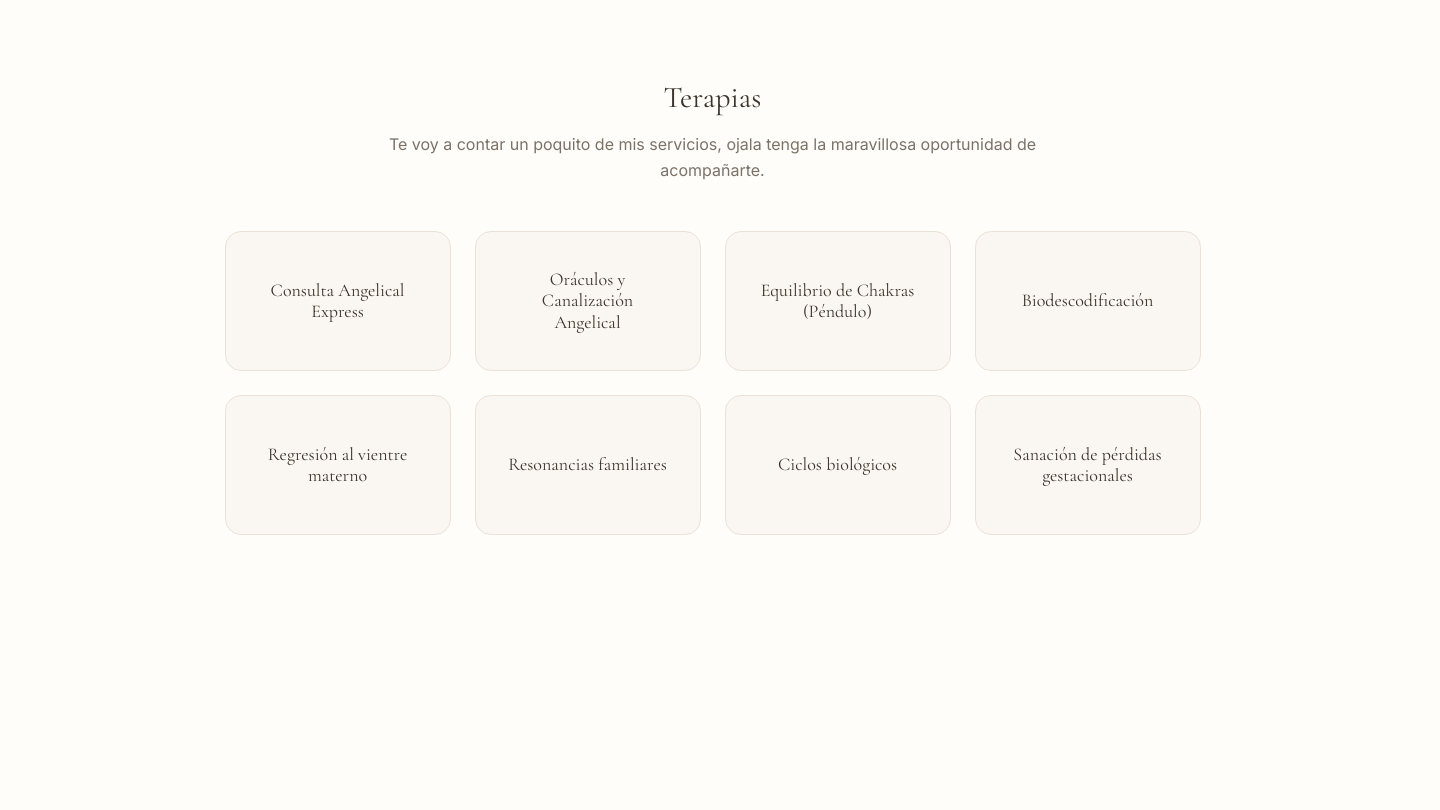
Services › closing the modal › closes when the close button (✕) is clicked
The image size is (1440, 810).
What coordinates should you click on to do the following:
click the button "Consulta Angelical Express"
I would click on:
 (338, 301)
Its box is [224, 231, 450, 371].
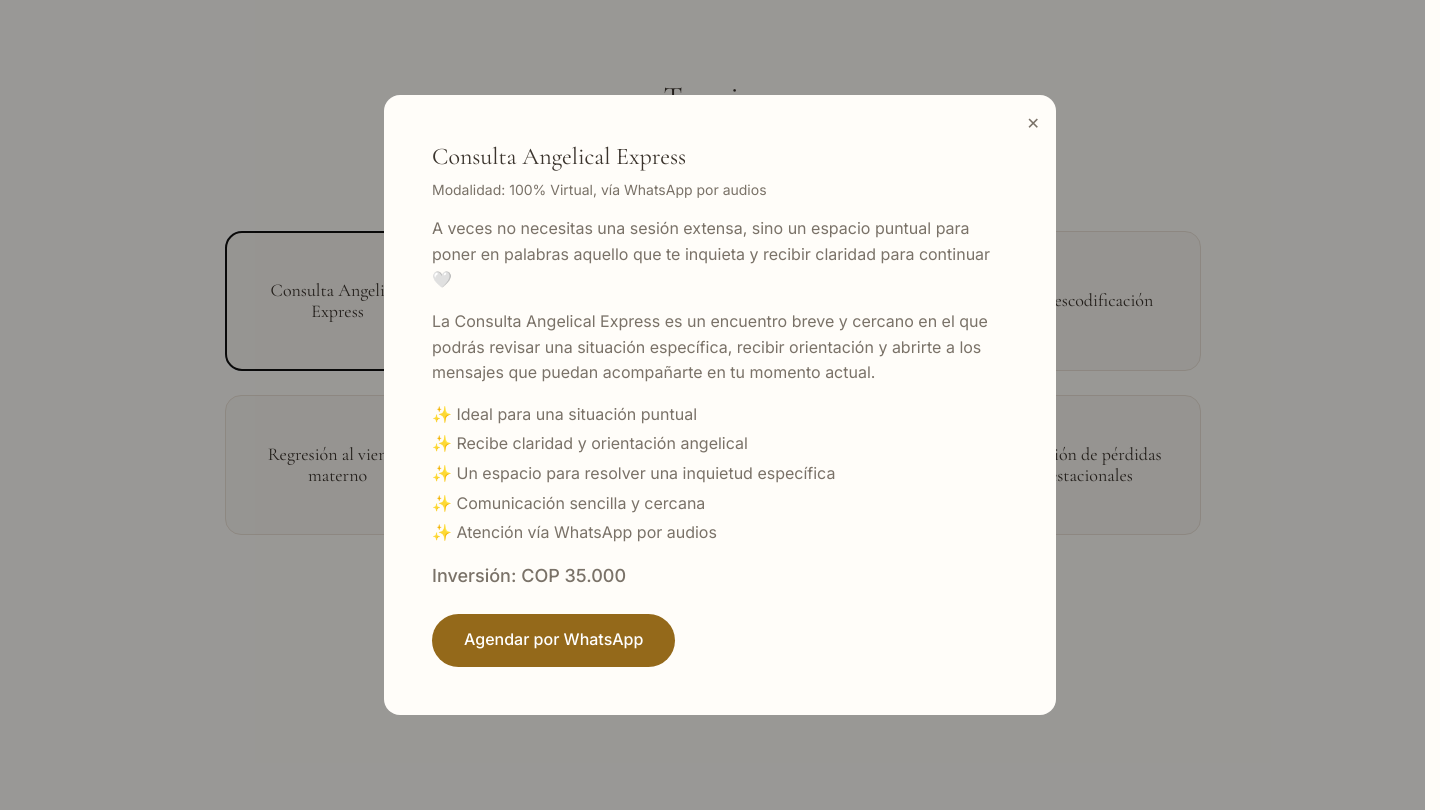
What coordinates should you click on to do the following:
click the button named "Cerrar"
I would click on:
 (1033, 124)
Its box is [1027, 111, 1040, 137].
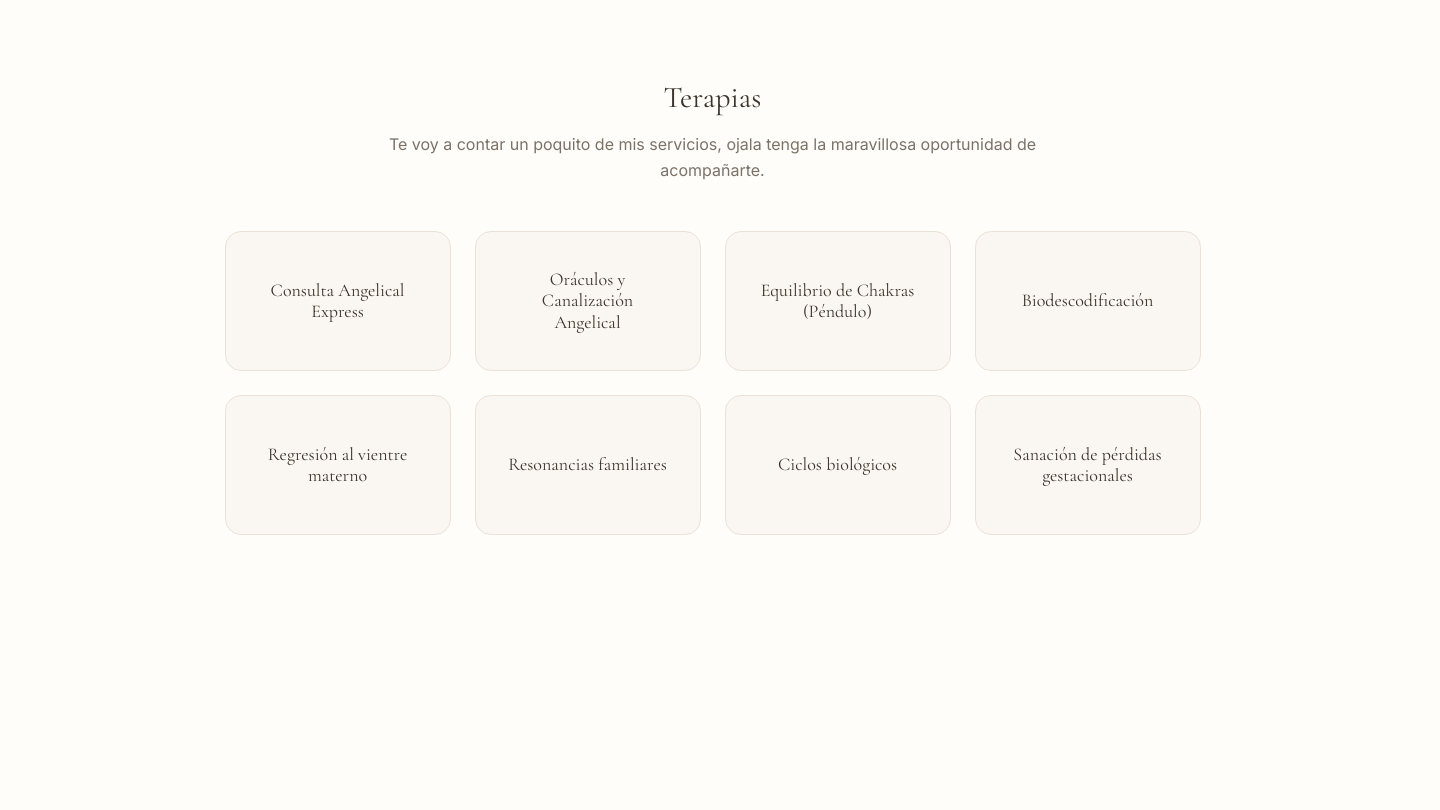
Expected: the dialog is gone
